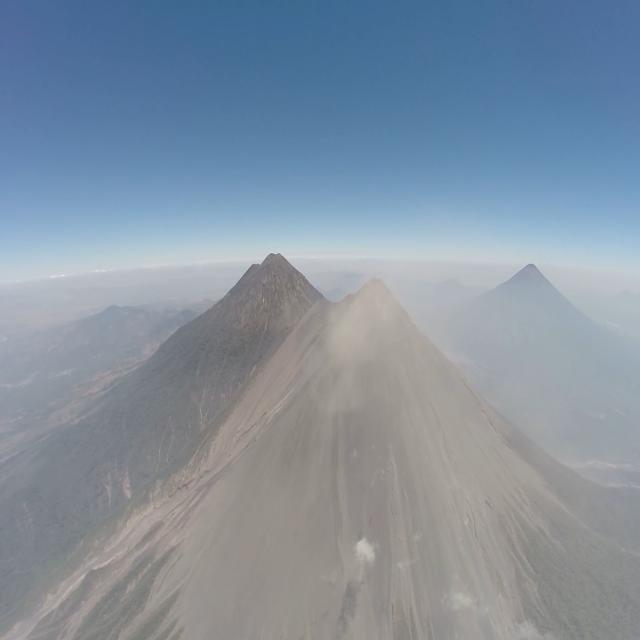Plume: (318, 265, 410, 403)
Summit: (336, 267, 412, 322)
